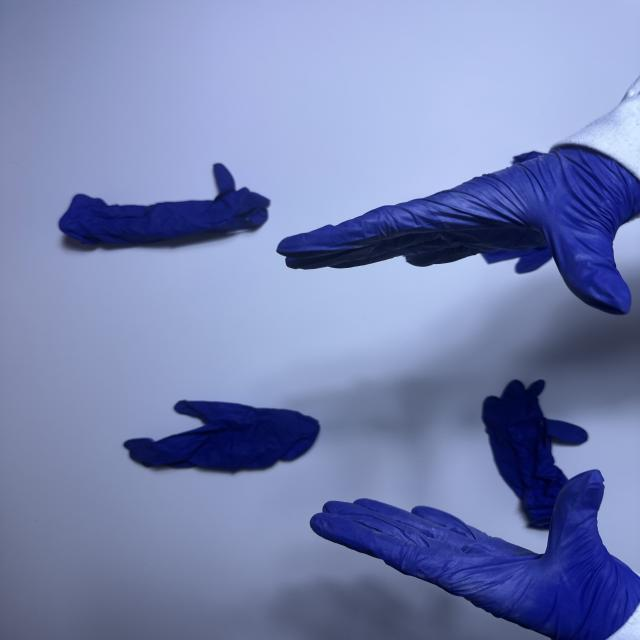gloves_contaminated: (277, 147, 640, 314), (310, 470, 640, 640)
